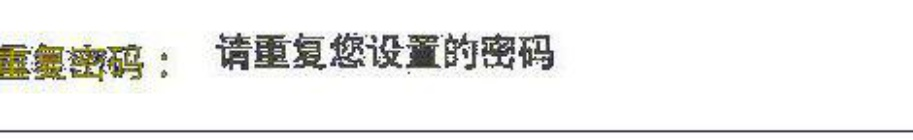EditText: (1, 1, 912, 139)
